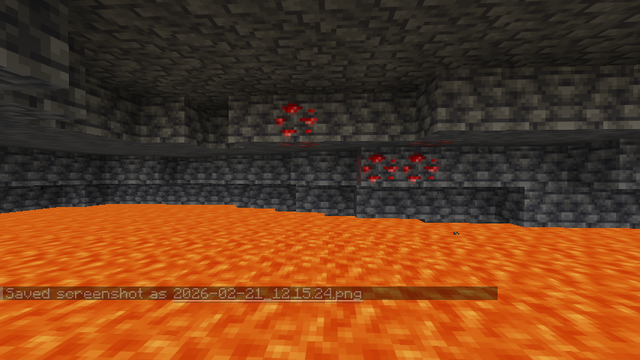redstone: (354, 139, 457, 193), (272, 90, 319, 154)
